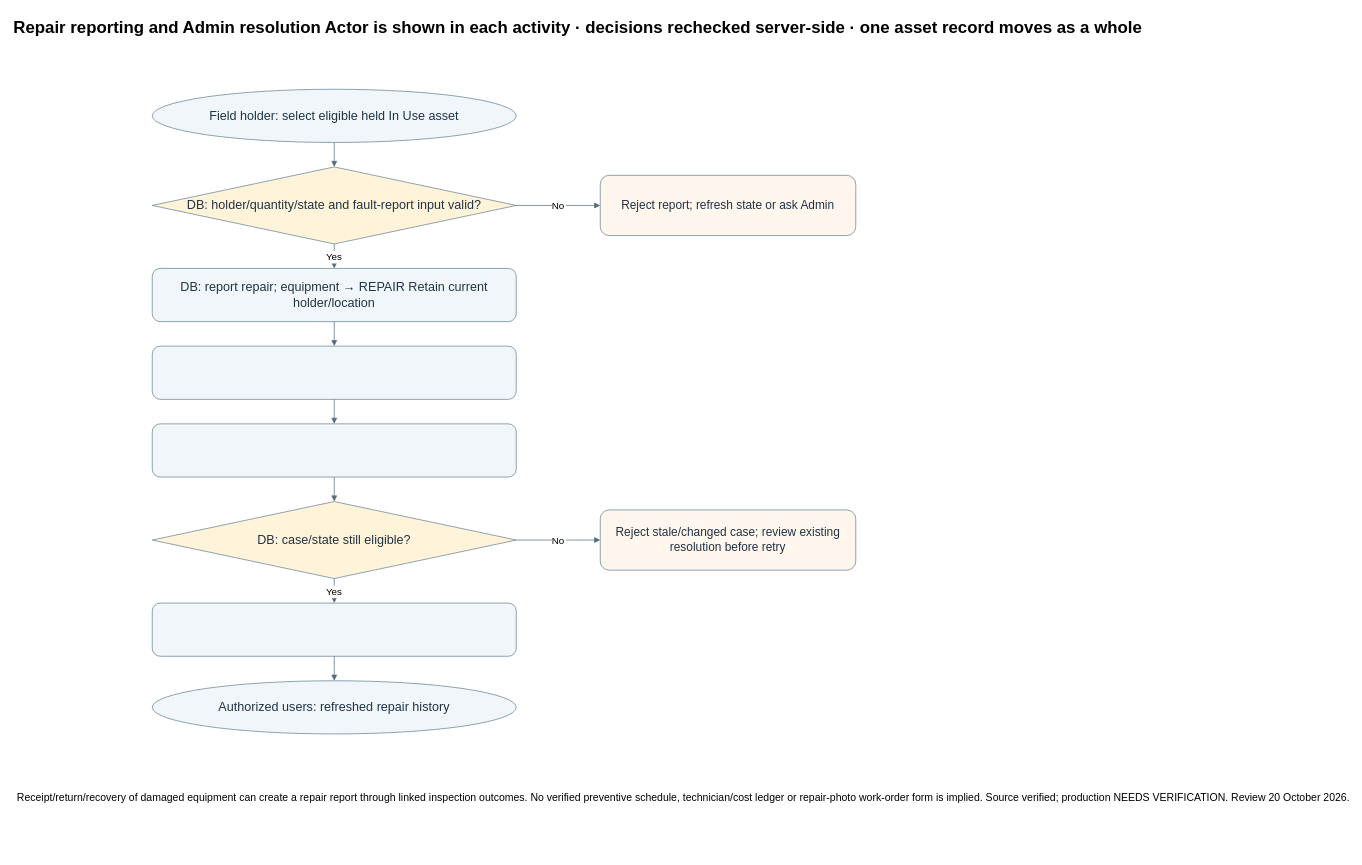
The diagram is 1362 pixels wide and 865 high, and some of its shapes have lost their labels. Here are the shapes that lost their labels. From the top down, the centre of each, then its label:
At [334,372]: "Admin: start repair case Case → Under Repair; equipment stays REPAIR".
At [334,450]: "Admin: complete current repair Record resolution/destination as applicable".
At [334,629]: "DB: clear holder; equipment → AVAILABLE Case → Completed; save activity".
